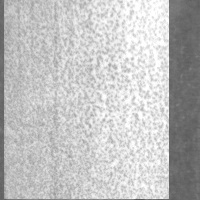inclusion: (126, 1, 151, 73), (17, 116, 39, 193), (71, 31, 97, 92), (132, 166, 155, 200)
pitted_surface: (4, 0, 169, 199)
